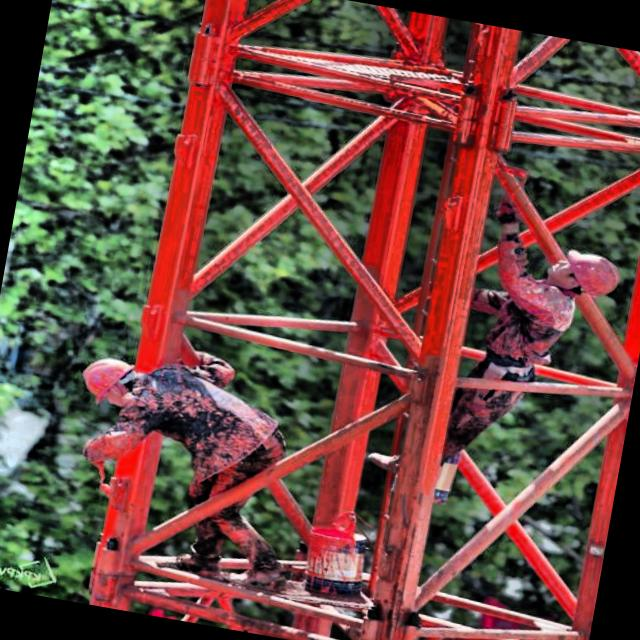helmet: (542, 240, 632, 300), (75, 345, 151, 416)
